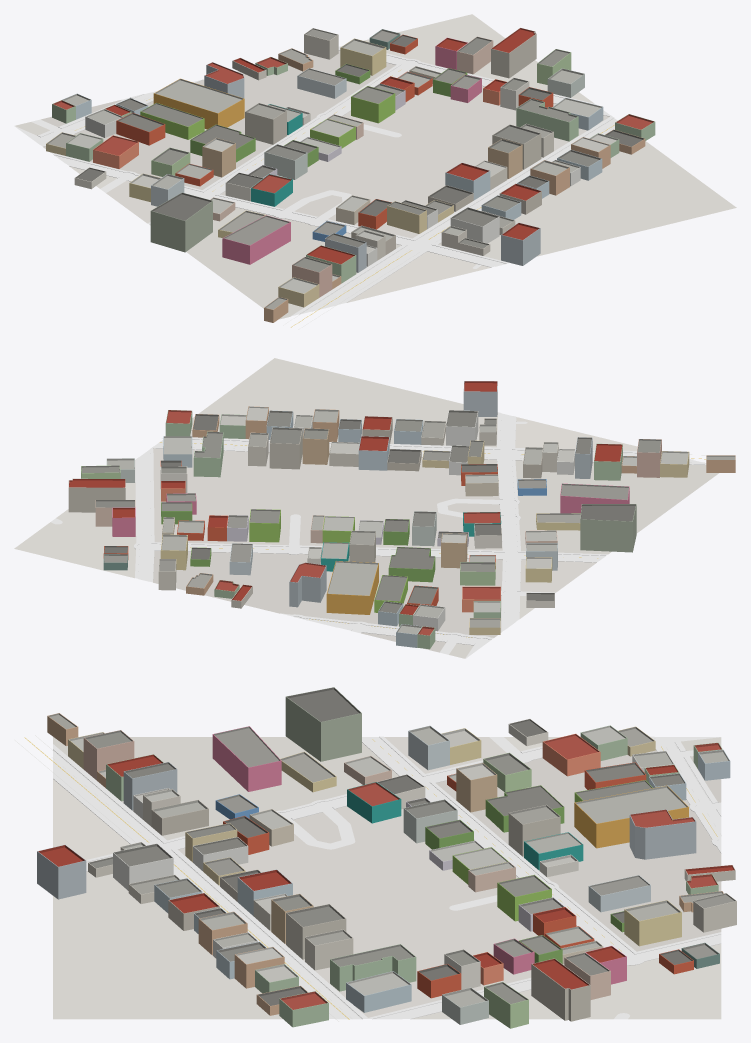
3 renders of one model, top to bottom at view 1: azimuth 30°, elevation 25°; view 2: azimuth 150°, elevation 25°; view 3: azimuth 270°, elevation 25°, orthographic. The views are drawn at different scales.
Visible parts, largest first — view 1: ground, walls, roofs, asphalt, sidewalk; view 2: ground, roofs, walls, asphalt, sidewalk; view 3: ground, walls, roofs, asphalt, sidewalk, markings.
Part boxes in pixels (bbox=[...]): ground: bbox=[15, 14, 736, 319]; walls: bbox=[46, 32, 655, 322]; roofs: bbox=[46, 27, 654, 309]; asphalt: bbox=[14, 45, 617, 314]; sidewalk: bbox=[37, 48, 613, 316]; ground: bbox=[14, 358, 718, 658]; roofs: bbox=[68, 381, 735, 635]; walls: bbox=[68, 390, 735, 649]; asphalt: bbox=[51, 413, 702, 658]; sidewalk: bbox=[134, 412, 706, 645]; ground: bbox=[53, 737, 721, 1019]; walls: bbox=[37, 697, 736, 1028]; roofs: bbox=[37, 687, 736, 1010]; asphalt: bbox=[53, 737, 721, 1019]; sidewalk: bbox=[53, 736, 721, 1019]; markings: bbox=[15, 735, 721, 1021].
Size of what is drawn, in the model's own units: 267 by 16.33 by 270.
